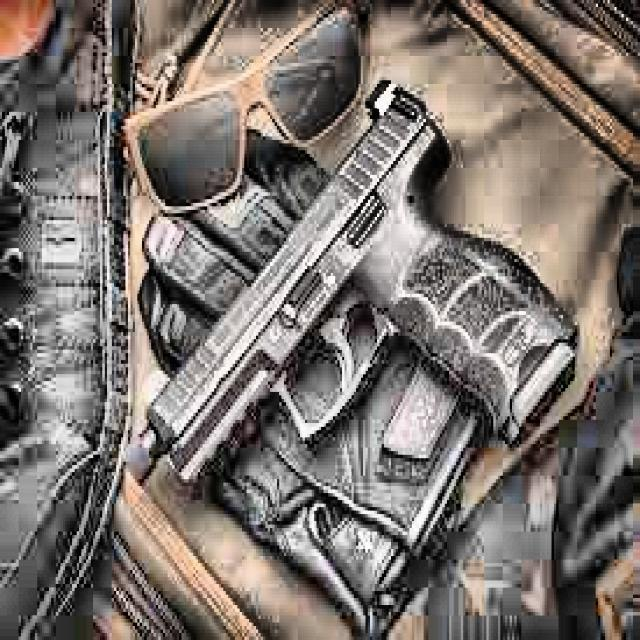HKVP9: (122, 77, 580, 496)
